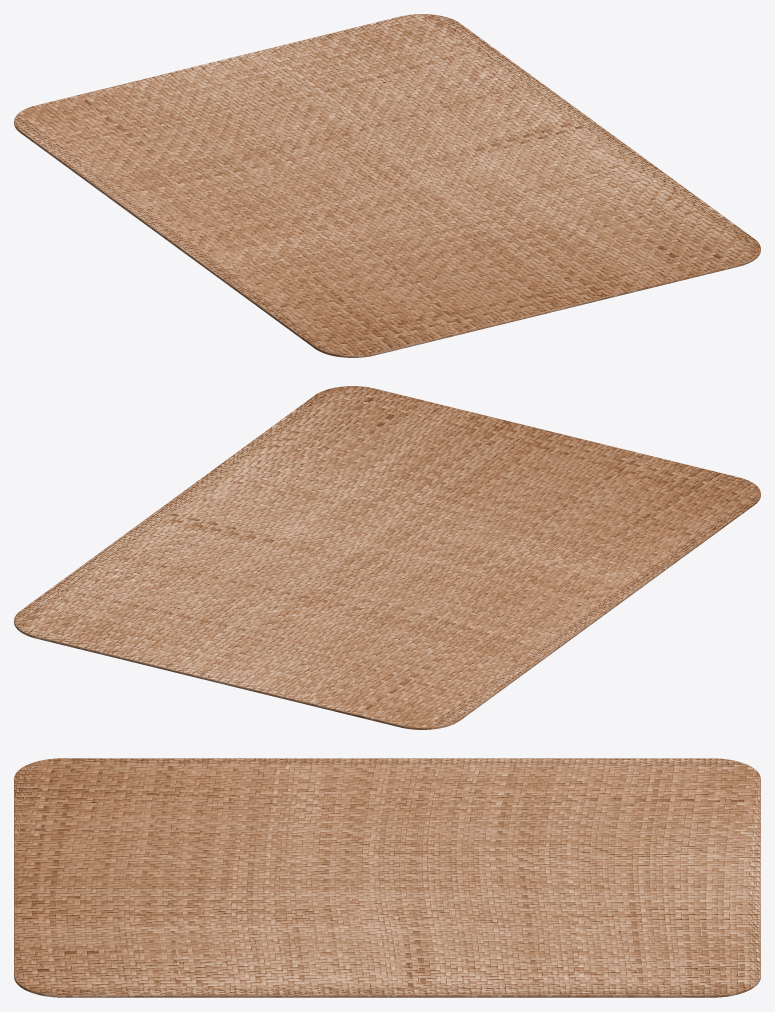
The picture shows the model from 3 angles, top to bottom: view 1: azimuth 30°, elevation 25°; view 2: azimuth 150°, elevation 25°; view 3: azimuth 270°, elevation 25°; orthographic projection. The views are drawn at different scales.
Visible parts, largest first — view 1: Object_2; view 2: Object_2; view 3: Object_2.
Part boxes in pixels (x1,y1,x2,y2): Object_2: (14, 14, 760, 357); Object_2: (14, 386, 760, 729); Object_2: (14, 758, 760, 997).
Bounding box in the file's own units: 1.2 × 0.00662 × 1.6.
1 material, 1 textured.
